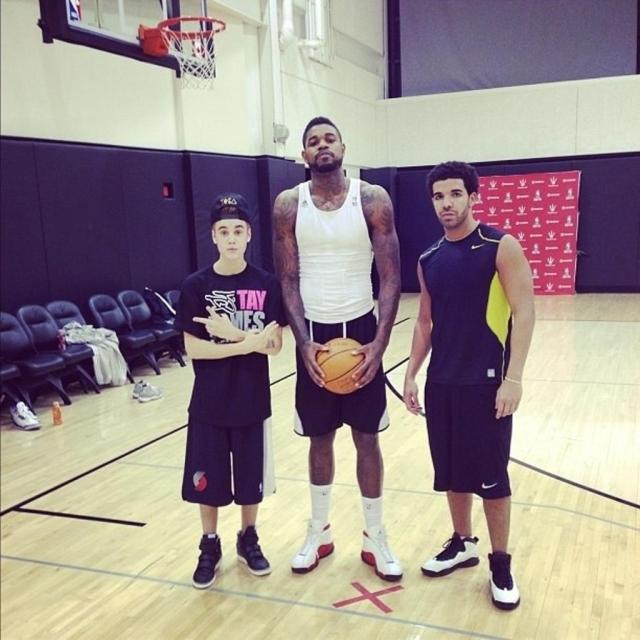Face: (430, 168, 480, 229), (201, 213, 257, 267), (304, 118, 345, 173)
